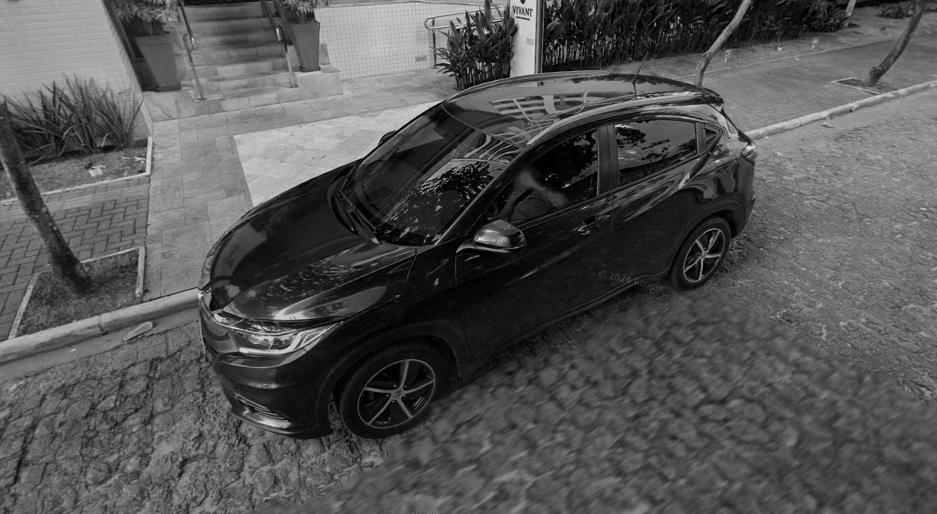car: (195, 49, 759, 443)
